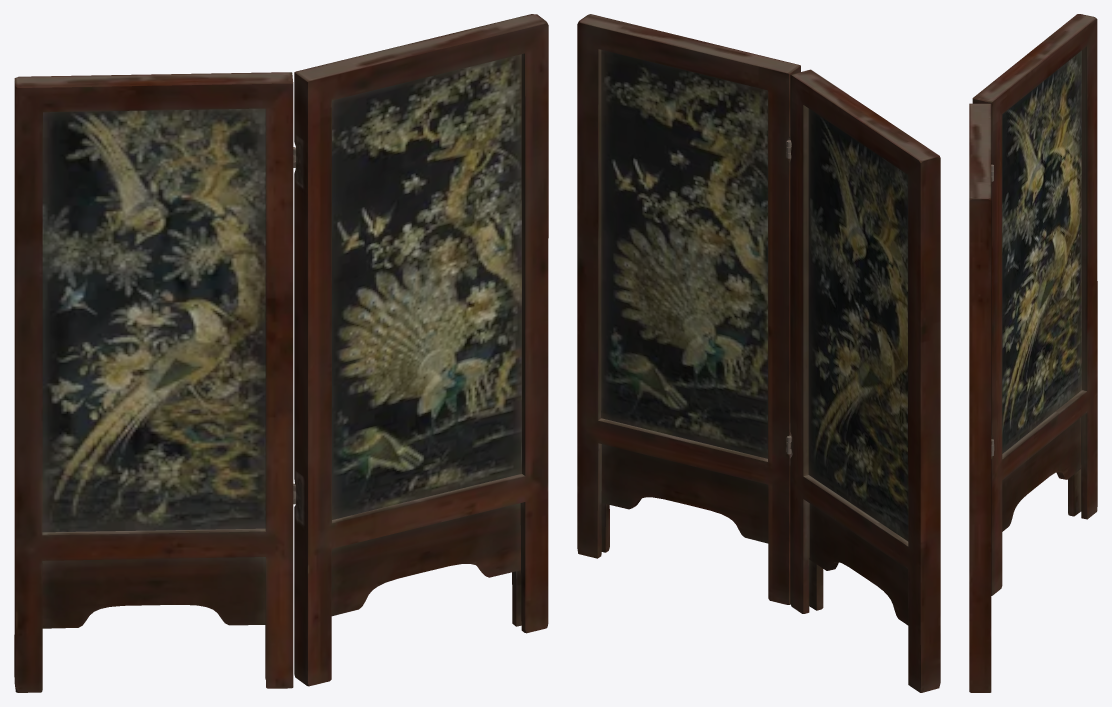
The model's file is chinese-screen.glb.
3 renders of one model, left to right at view 1: azimuth 30°, elevation 25°; view 2: azimuth 150°, elevation 25°; view 3: azimuth 270°, elevation 25°, orthographic. The views are drawn at different scales.
Visible parts, largest first — view 1: chinese_screen_panels_a; view 2: chinese_screen_panels_a; view 3: chinese_screen_panels_a.
Boxes of the visible parts, x1,y1,x2,y2 form: chinese_screen_panels_a: (14,14,548,692); chinese_screen_panels_a: (577,14,940,692); chinese_screen_panels_a: (969,14,1097,692).
Bounding box in the file's own units: 1.29 × 1.6 × 0.3769.
Materials: 1 (1 with a texture image).
